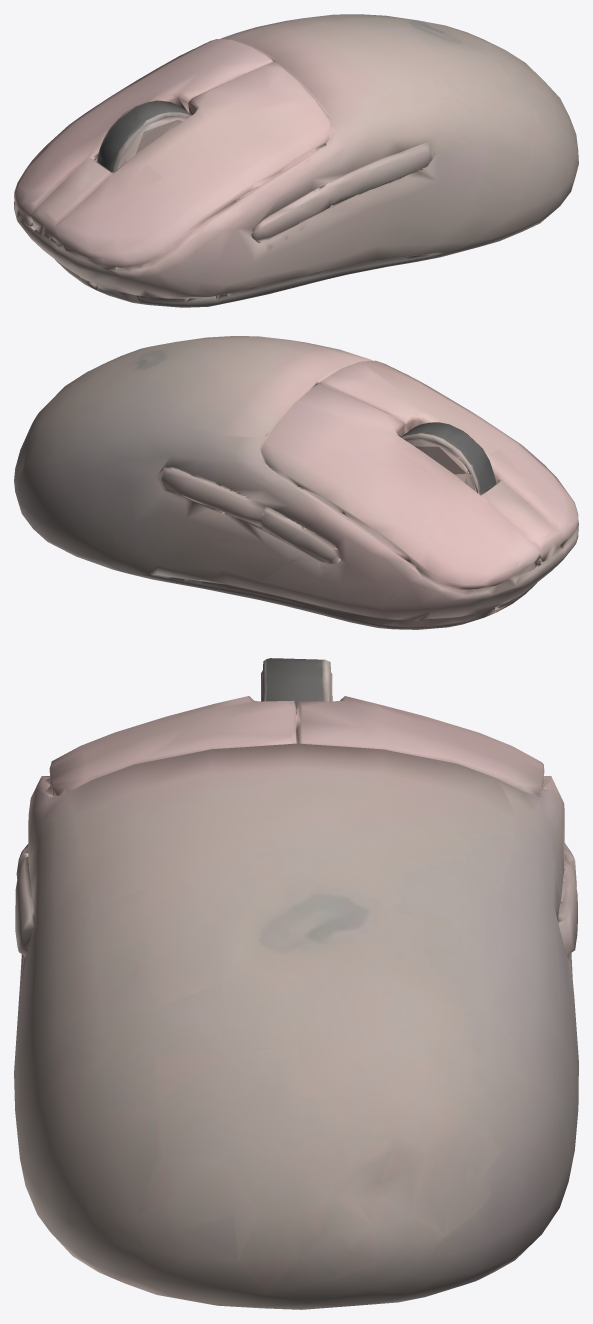
The model's file is pink_mouse.glb.
The picture shows the model from 3 angles, top to bottom: view 1: azimuth 30°, elevation 25°; view 2: azimuth 150°, elevation 25°; view 3: azimuth 270°, elevation 25°; orthographic projection. The views are drawn at different scales.
Parts seen in each view (by area): view 1: geometry_0.001; view 2: geometry_0.001; view 3: geometry_0.001.
Part boxes in pixels (x1=…): geometry_0.001: x1=14, y1=14, x2=578, y2=307; geometry_0.001: x1=14, y1=336, x2=578, y2=629; geometry_0.001: x1=14, y1=658, x2=578, y2=1309.
Bounding box in the file's own units: 0.123 × 0.0404 × 0.0615.
1 material, 1 textured.
